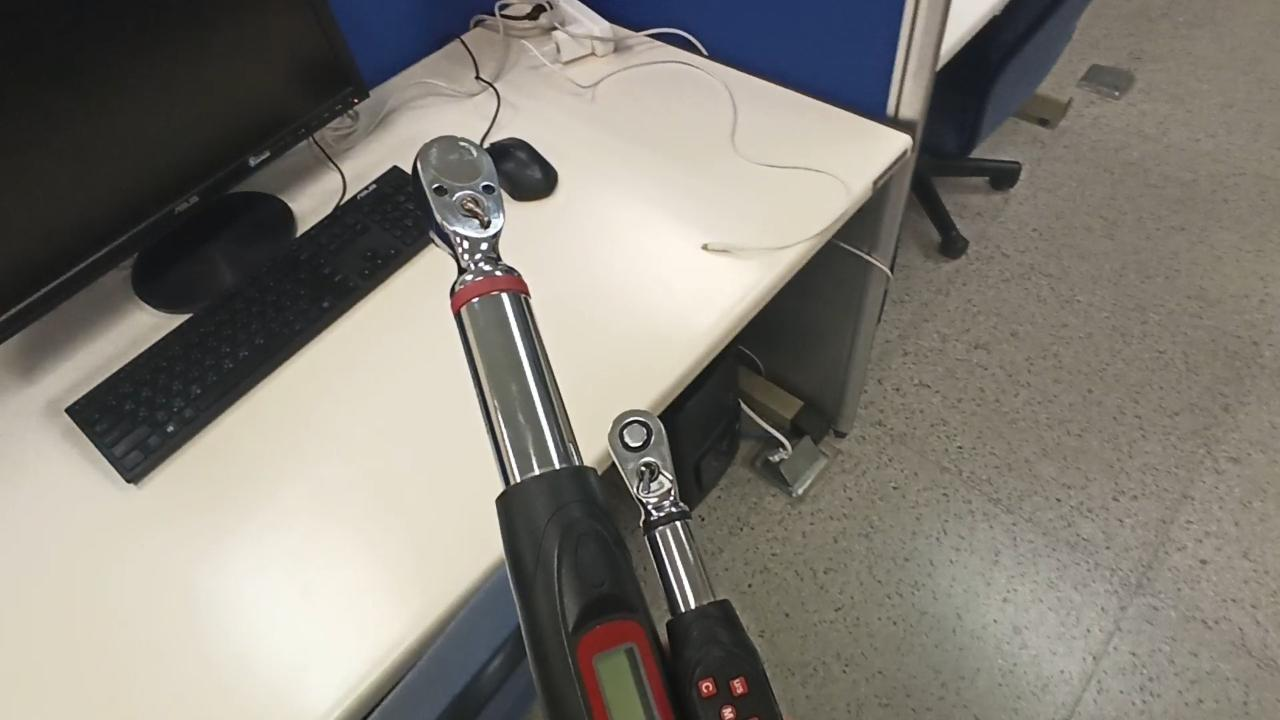Tool: (408, 129, 536, 284), (598, 409, 686, 523)
